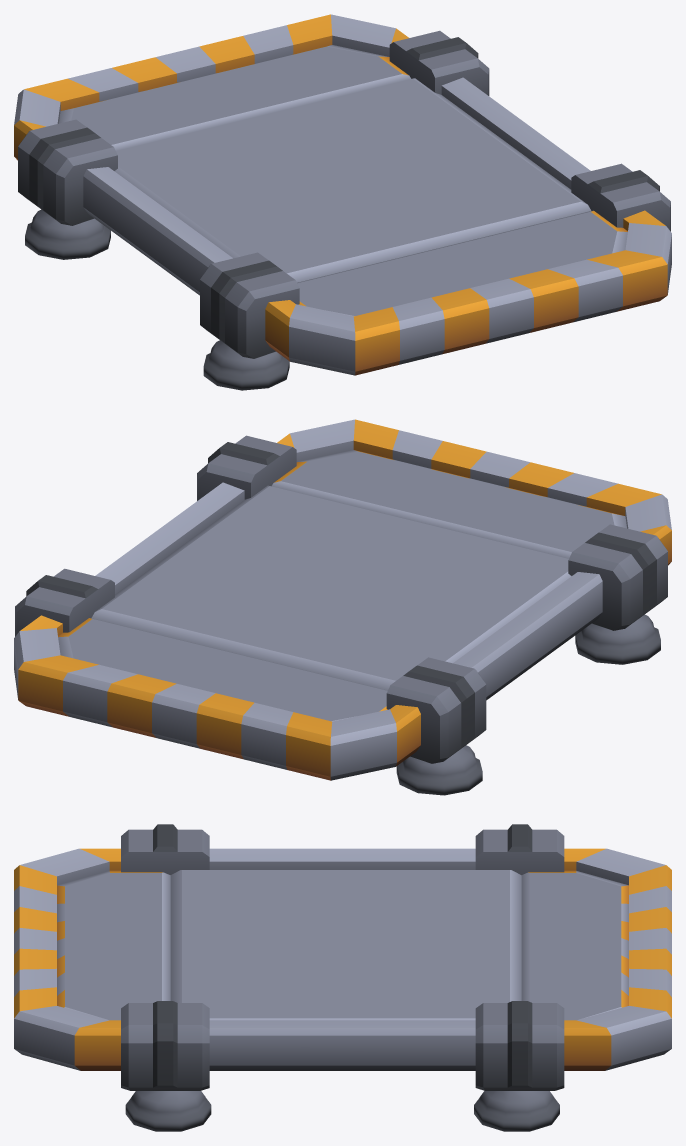
The model's file is SpacePart_Cube_041.fbx.
3 views of the same model, one above another, from view 1: azimuth 30°, elevation 25°; view 2: azimuth 150°, elevation 25°; view 3: azimuth 270°, elevation 25° (orthographic). The views are drawn at different scales.
Parts seen in each view (by area): view 1: Cube.041; view 2: Cube.041; view 3: Cube.041.
Part boxes in pixels (x1,y1,x2,y2): Cube.041: (14,14,671,390); Cube.041: (14,419,671,795); Cube.041: (14,824,671,1131).
Size of the model in its own units: 1481 by 336 by 1935.
